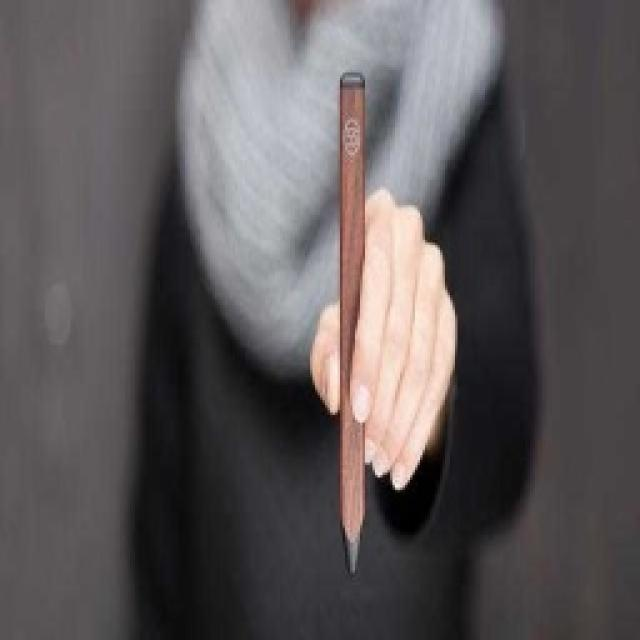pencil: (128, 0, 548, 638)
